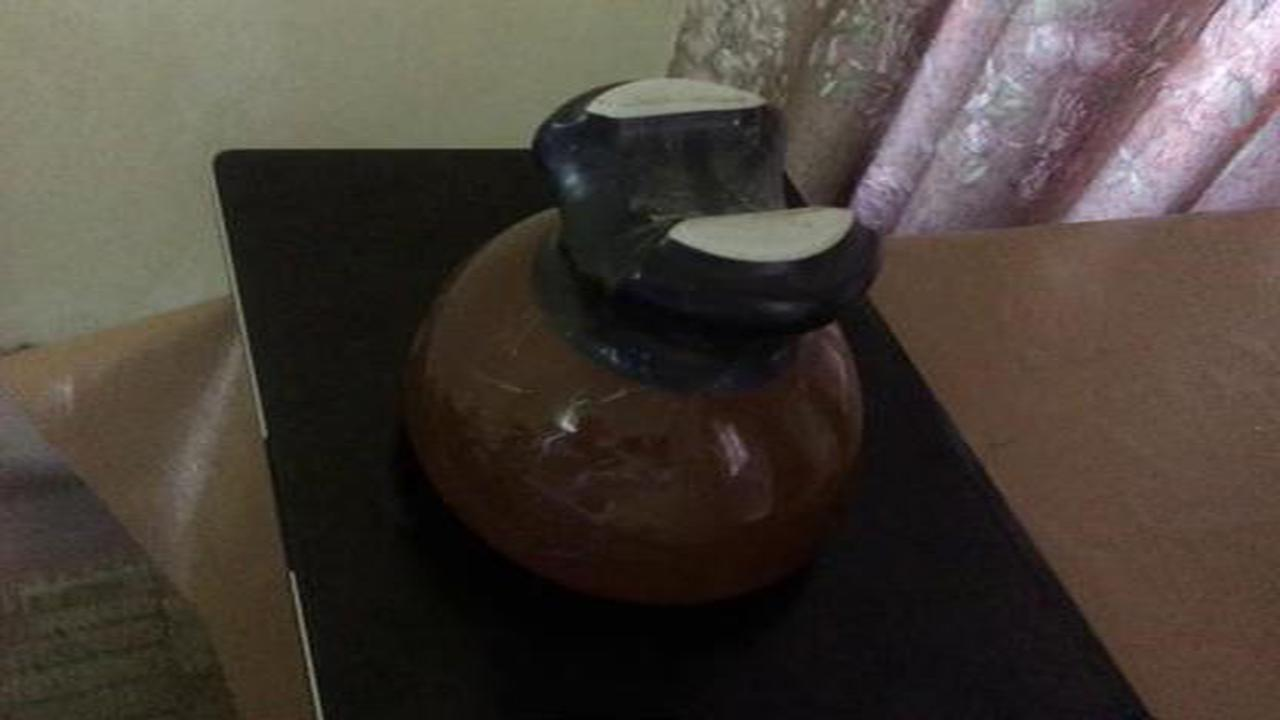insulator_pin: (379, 61, 914, 631)
